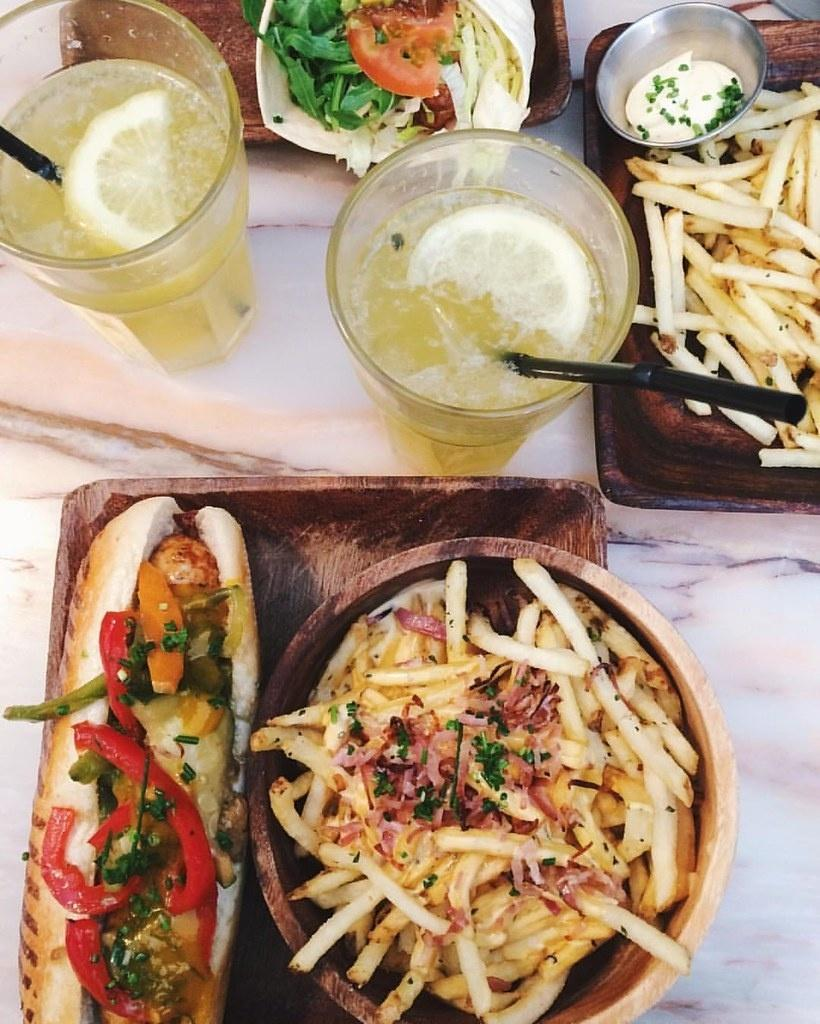noodles: (248, 581, 696, 996)
